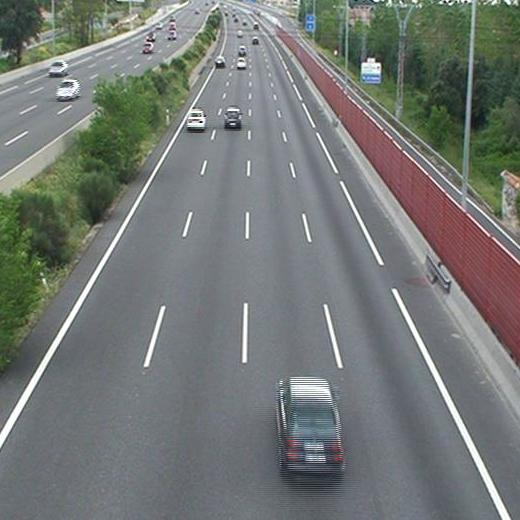car: (276, 380, 342, 474), (187, 109, 205, 130), (225, 108, 240, 126), (215, 56, 225, 67), (237, 58, 246, 69), (237, 45, 246, 56), (251, 37, 258, 46)
